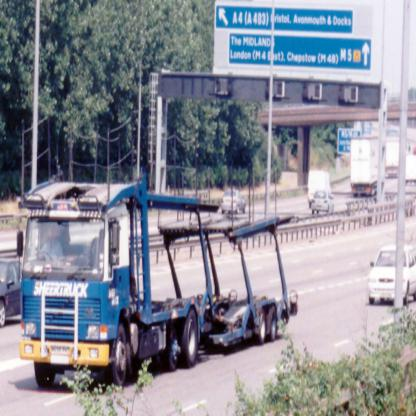Car: (368, 242, 416, 304), (0, 258, 23, 328), (310, 186, 334, 219), (220, 188, 247, 213)
Truck: (20, 180, 280, 386)
